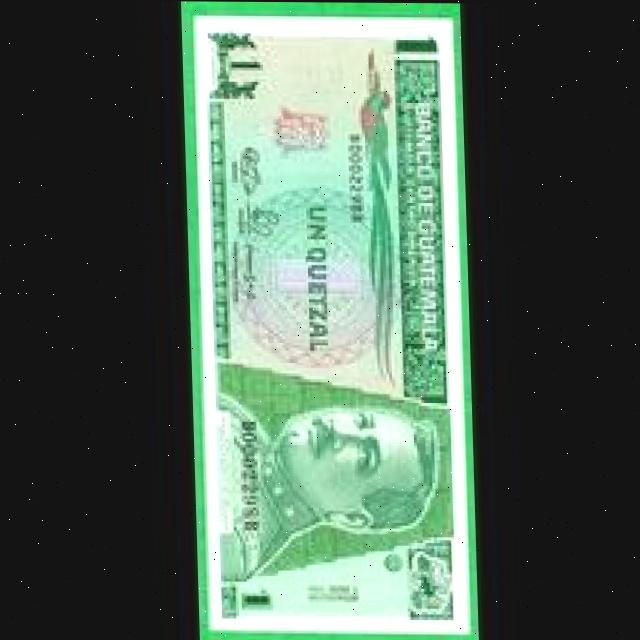banknote: (178, 1, 480, 640)
